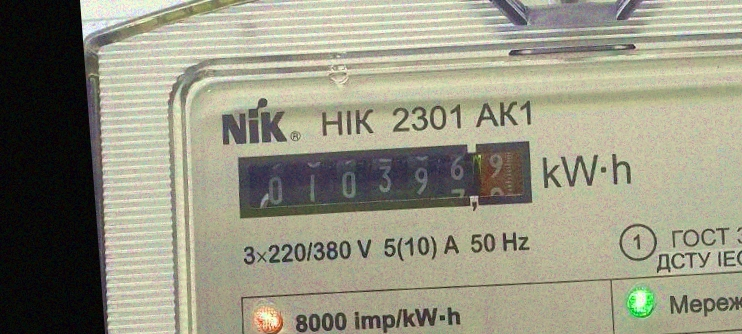0: (336, 166, 360, 201), (263, 172, 285, 206)
1: (304, 169, 319, 203)
3: (374, 161, 395, 196)
6: (445, 152, 468, 182)
9: (409, 163, 431, 197), (483, 150, 506, 182)
screen: (220, 121, 545, 239)
